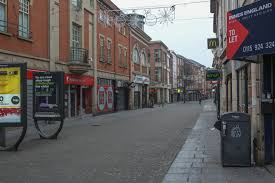strada: (15, 113, 267, 181)
